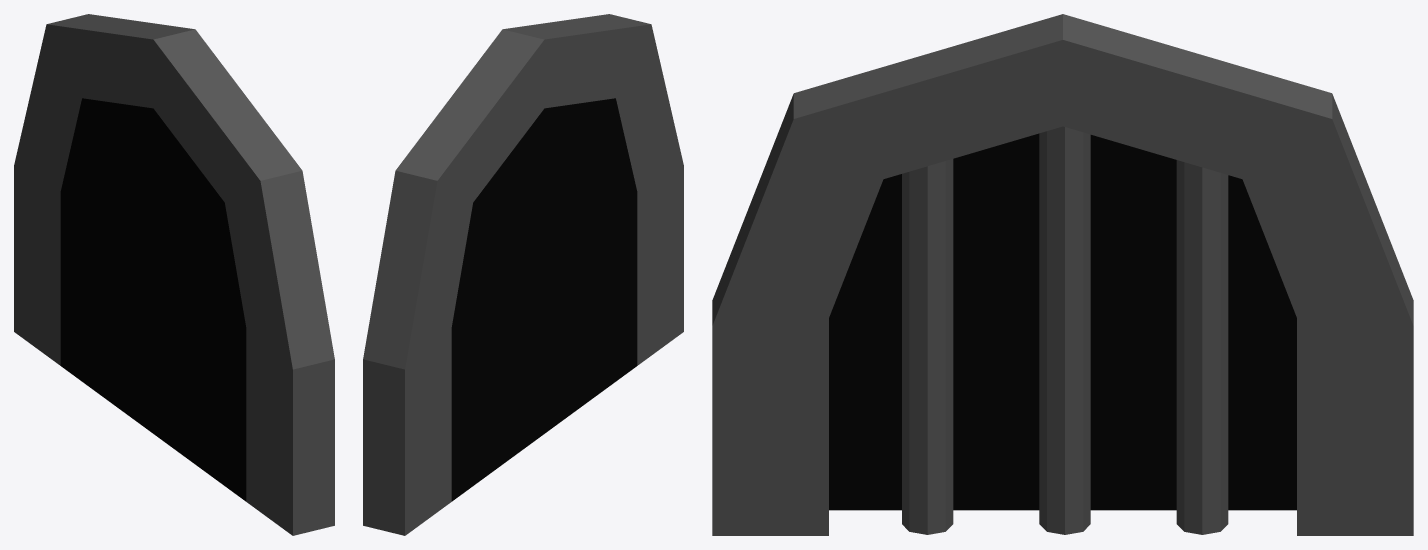
Rendered from sewer.glb.
3 renders of one model, left to right at view 1: azimuth 30°, elevation 25°; view 2: azimuth 150°, elevation 25°; view 3: azimuth 270°, elevation 25°, orthographic. The views are drawn at different scales.
Visible parts, largest first — view 1: Sewer; view 2: Sewer; view 3: Sewer.
Boxes of the visible parts, box(x1,y1,x2,y2) form: Sewer: box(14, 14, 334, 535); Sewer: box(363, 14, 683, 535); Sewer: box(712, 14, 1413, 535).
Size of the model in its own units: 0.2 by 1.8 by 2.3.
Materials: 1 (1 with a texture image).
